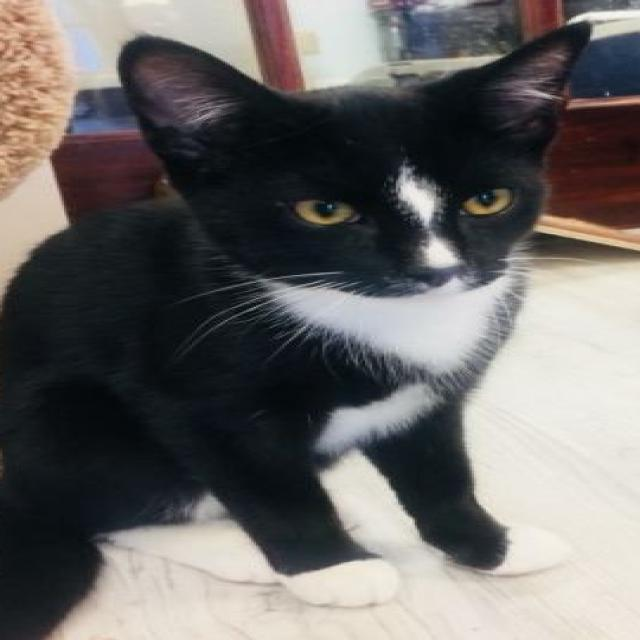Tuxedo: (0, 14, 602, 640)
